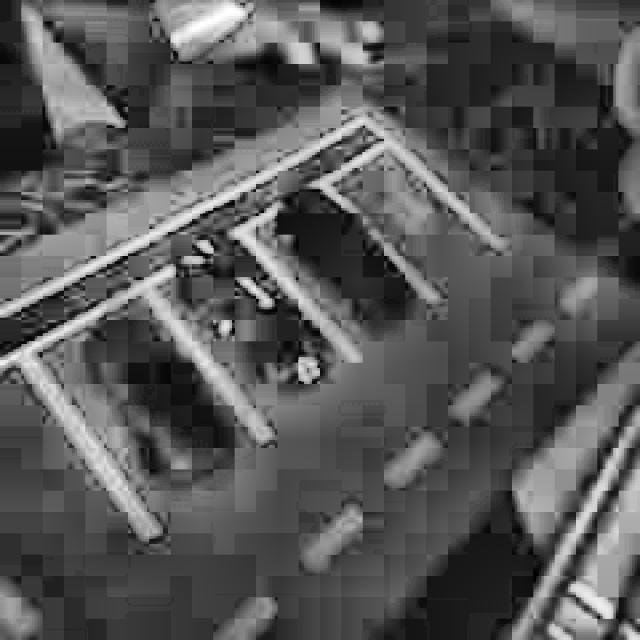car: (78, 307, 248, 494), (169, 224, 335, 406), (252, 169, 420, 336)
